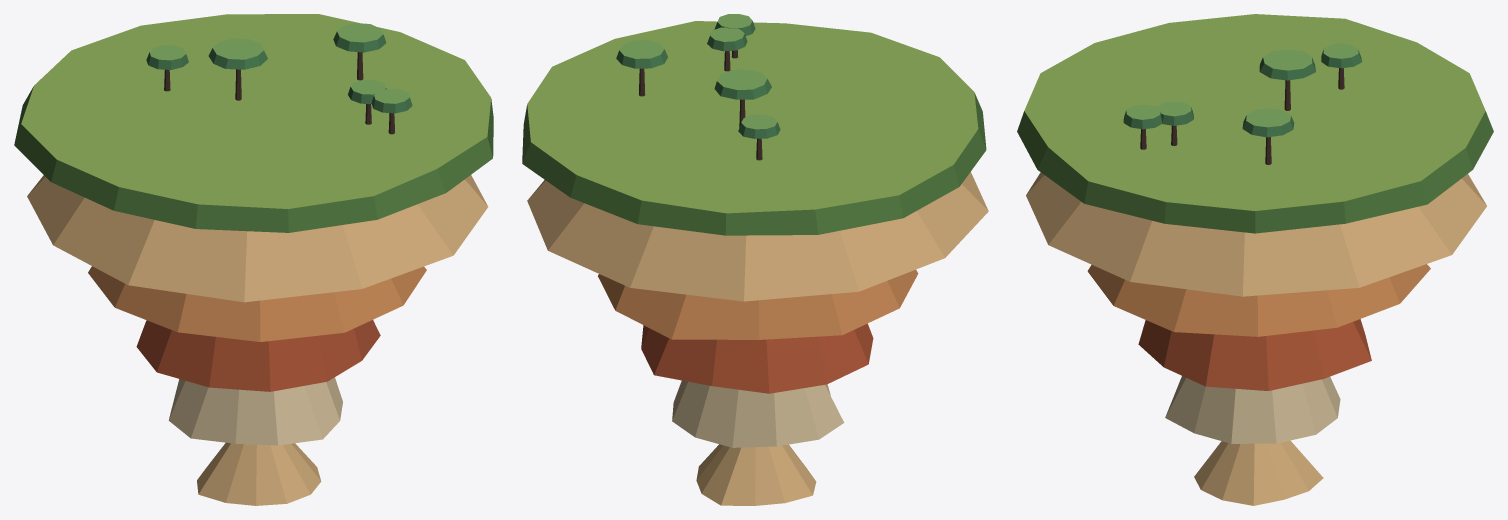
The model's file is float_island.glb.
3 views of the same model, side by side, from view 1: azimuth 30°, elevation 25°; view 2: azimuth 150°, elevation 25°; view 3: azimuth 270°, elevation 25° (orthographic).
Visible parts, largest first — view 1: float_island; view 2: float_island; view 3: float_island.
Boxes of the visible parts, x1,y1,x2,y2 form: float_island: (14,14,493,505); float_island: (522,14,988,505); float_island: (1017,14,1493,505).
Size of the model in its own units: 52.03 by 50.08 by 52.
